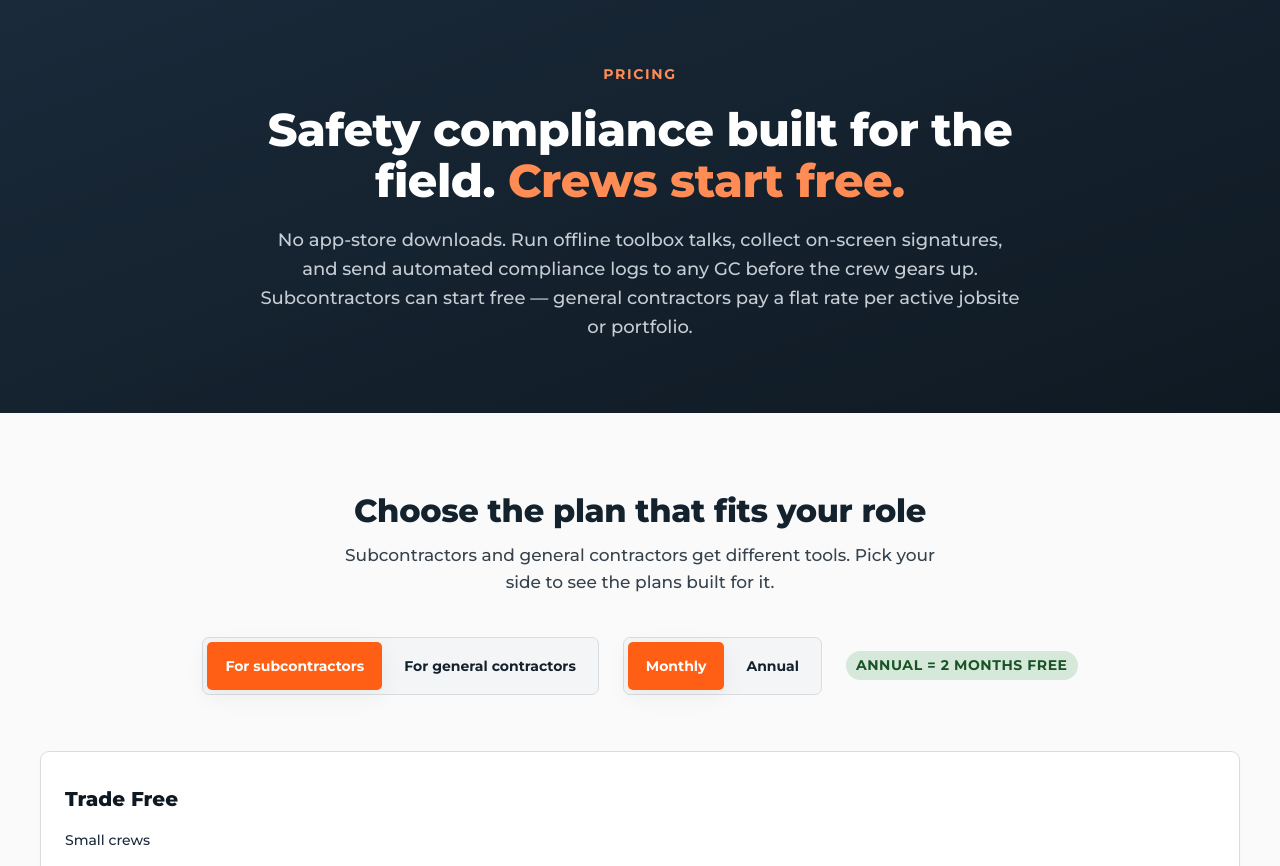
Scenario: Pricing page › updates billing and recalculates cadence when annual is selected
This screenshot has width=1280, height=866.
Expected: the text "Billed annually" is not shown
Click the button "Annual". click: (773, 666)
box: [728,642,817,690]
(page scrolled)
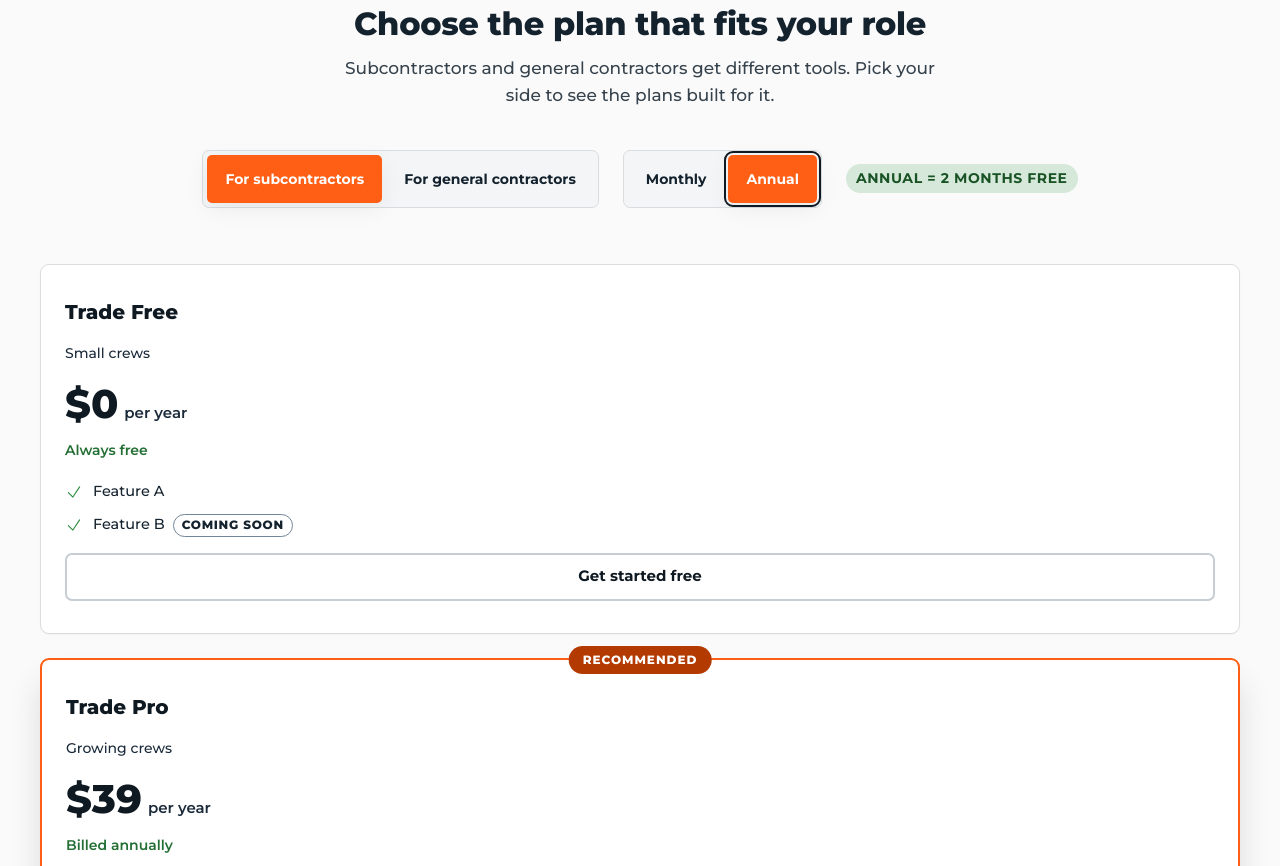
Expected: the text "Billed annually" is shown, [66,836,173,854]
Expected: the text "Always free" is shown, [65,441,148,459]
